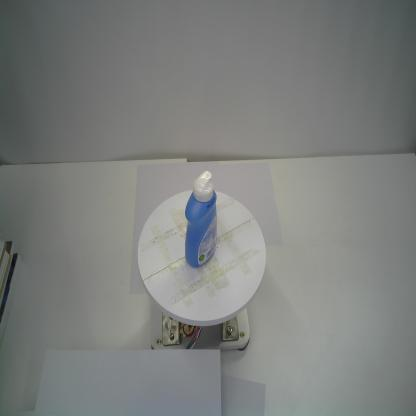Personal Hygiene: (184, 170, 217, 267)
